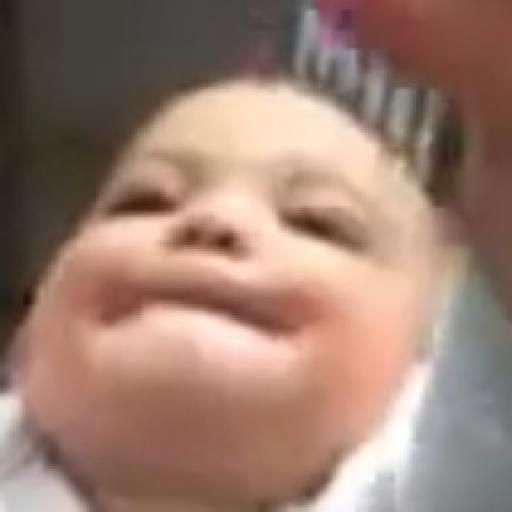Autism: (68, 80, 428, 512)
